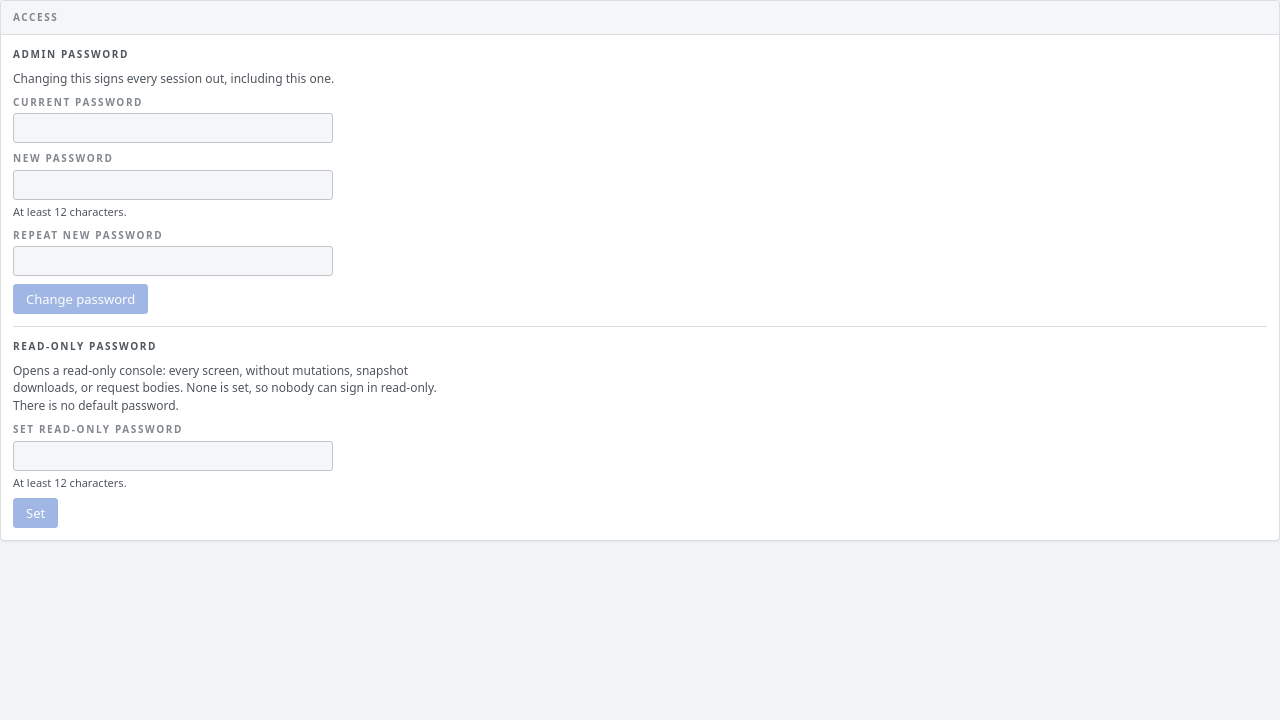
Test: admin password › a mistyped repeat is refused before anything is sent
This screenshot has width=1280, height=720.
In the password field labelled "Current password": (173, 128) [13,113,333,143], type "hunter2hunter2"
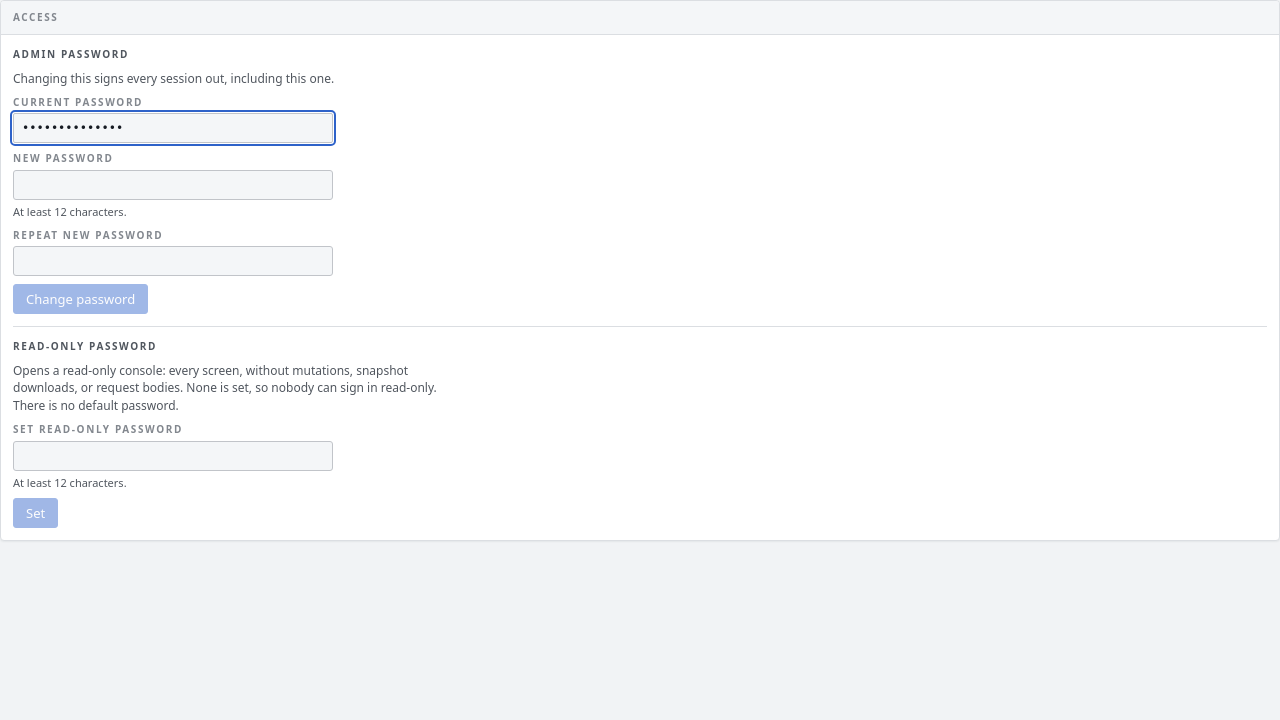
In the password field labelled "New password": (173, 185) [13,170,333,200], type "a-longer-new-password"
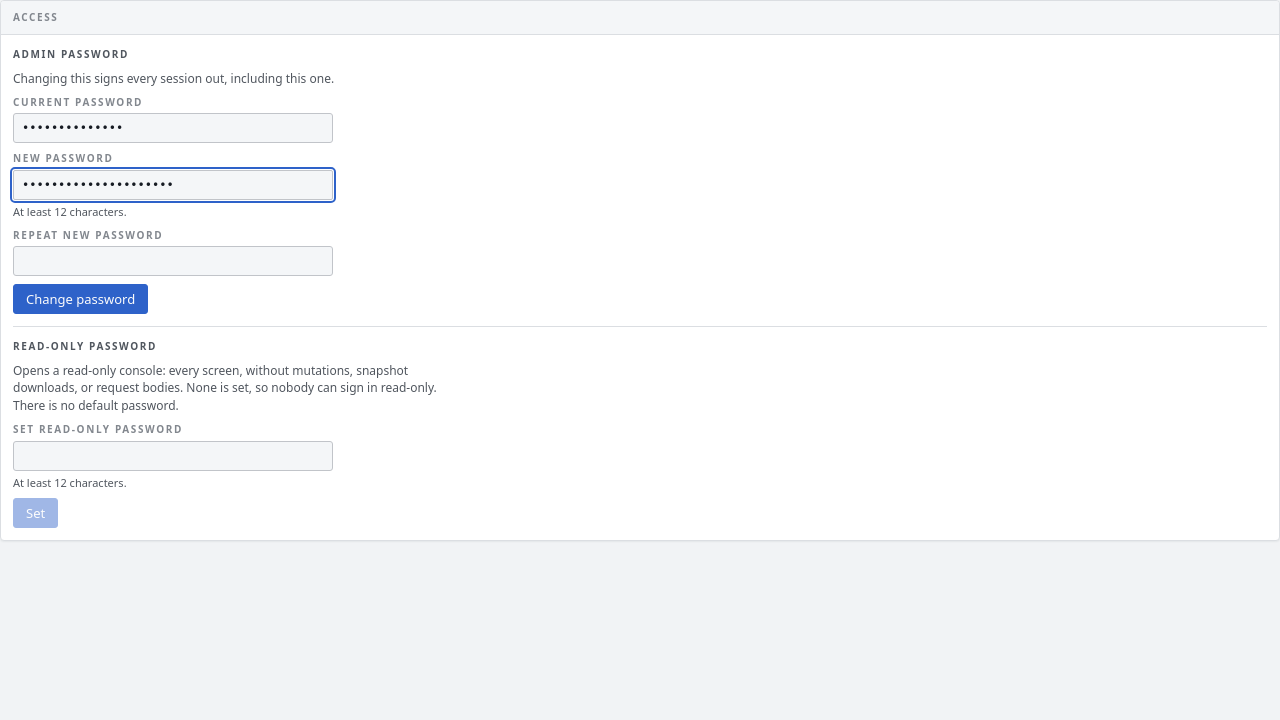
In the password field labelled "Repeat new password": (173, 261) [13,246,333,276], type "a-longer-new-passwerd"
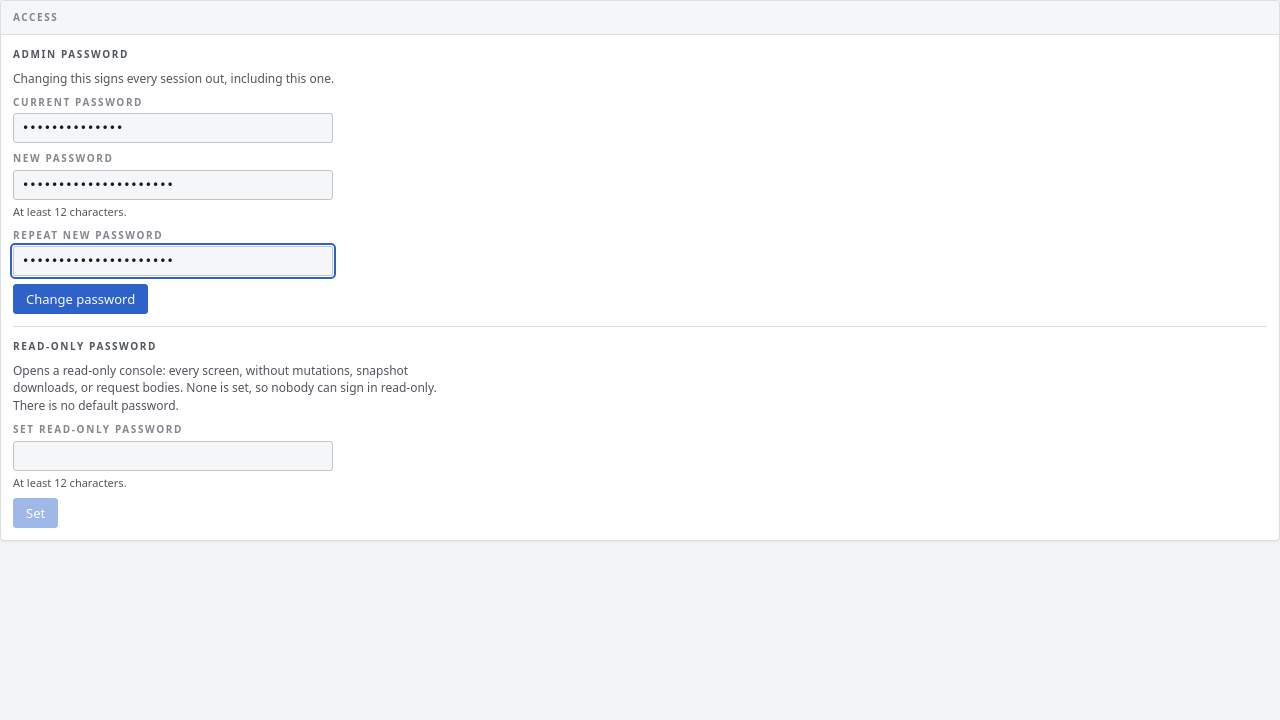
Click the button "Change password": (81, 299) [13,284,148,314]
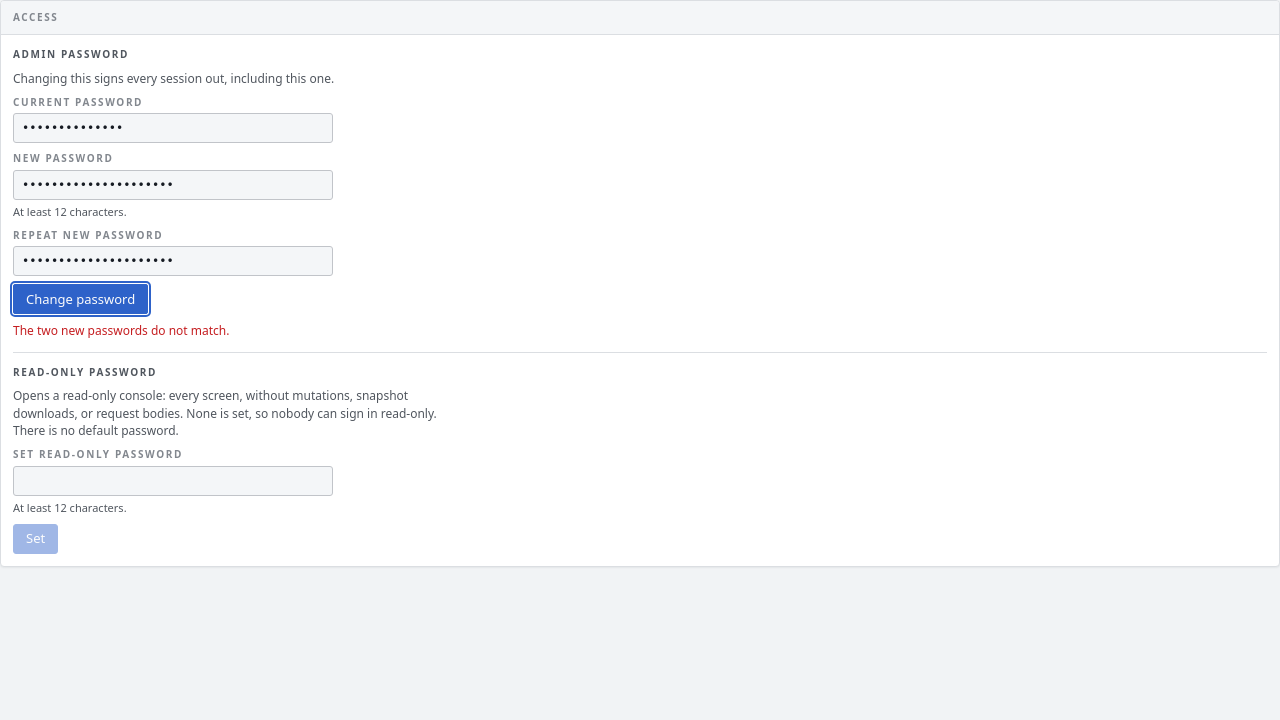
Expected: the message shows "do not match", [13,322,230,339]
